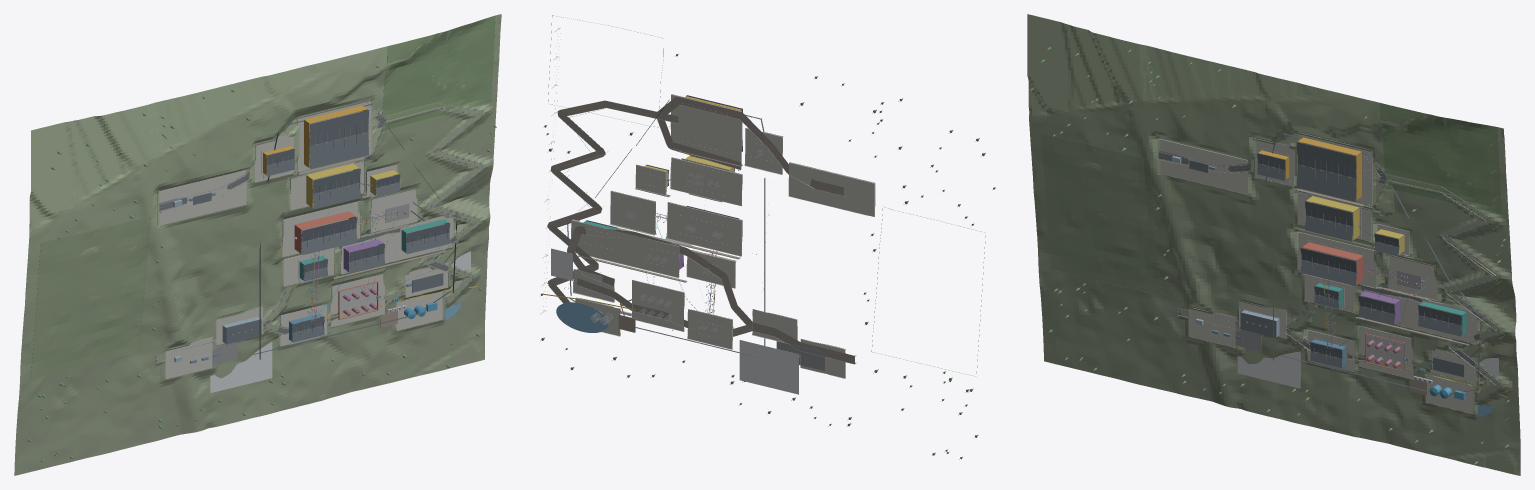
Rendered from 20_Модель_A1_RevP2_ExteriorQA.glb.
3 renders of one model, left to right at view 1: azimuth 30°, elevation 25°; view 2: azimuth 150°, elevation 25°; view 3: azimuth 330°, elevation 25°, orthographic. The views are drawn at different scales.
Parts seen in each view (by area): view 1: finished_design_surface, EXT_RESERVE_WEST_SURFACE, EXT_RESERVE_EAST_SURFACE, BLD_02_ROOF, pad_R1, clean_snow, BLD_05_ROOF, BLD_03_ROOF, pad_A2, pad_P2, pad_U4, pad_U1 (+21 smaller); view 2: EXT_D3_SUBBASE, pad_C2, pad_R3, pad_P1, pad_R1, clean_snow, pad_M1, EXT_D2_SUBBASE, pad_U1, EXT_D5_SUBBASE, pad_P2, pad_U3 (+14 smaller); view 3: finished_design_surface, EXT_RESERVE_WEST_SURFACE, EXT_RESERVE_EAST_SURFACE, BLD_02_ROOF, pad_R1, clean_snow, BLD_05_ROOF, BLD_03_ROOF, pad_A2, pad_P2, pad_U4, pad_C2 (+21 smaller).
Part boxes in pixels (x1=…): finished_design_surface: x1=14, y1=14, x2=501, y2=475; EXT_RESERVE_WEST_SURFACE: x1=31, y1=217, x2=150, y2=378; EXT_RESERVE_EAST_SURFACE: x1=382, y1=16, x2=495, y2=131; BLD_02_ROOF: x1=309, y1=110, x2=369, y2=169; pad_R1: x1=159, y1=170, x2=246, y2=224; clean_snow: x1=210, y1=341, x2=272, y2=392; BLD_05_ROOF: x1=301, y1=217, x2=357, y2=255; BLD_03_ROOF: x1=312, y1=169, x2=360, y2=208; pad_A2: x1=165, y1=338, x2=212, y2=378; pad_P2: x1=370, y1=189, x2=417, y2=232; pad_U4: x1=396, y1=292, x2=442, y2=330; pad_U1: x1=330, y1=274, x2=384, y2=326; EXT_D3_SUBBASE: x1=547, y1=100, x2=678, y2=303; pad_C2: x1=571, y1=220, x2=678, y2=277; pad_R3: x1=671, y1=94, x2=741, y2=162; pad_P1: x1=667, y1=202, x2=741, y2=255; pad_R1: x1=789, y1=163, x2=874, y2=216; clean_snow: x1=739, y1=340, x2=798, y2=394; pad_M1: x1=671, y1=157, x2=741, y2=205; EXT_D2_SUBBASE: x1=657, y1=96, x2=815, y2=188; pad_U1: x1=632, y1=280, x2=683, y2=331; EXT_D5_SUBBASE: x1=567, y1=226, x2=753, y2=325; pad_P2: x1=610, y1=191, x2=655, y2=234; pad_U3: x1=688, y1=309, x2=732, y2=349; finished_design_surface: x1=1027, y1=14, x2=1520, y2=475; EXT_RESERVE_WEST_SURFACE: x1=1041, y1=133, x2=1160, y2=295; EXT_RESERVE_EAST_SURFACE: x1=1380, y1=103, x2=1501, y2=213; BLD_02_ROOF: x1=1296, y1=142, x2=1356, y2=201; pad_R1: x1=1160, y1=139, x2=1247, y2=194; clean_snow: x1=1237, y1=351, x2=1300, y2=388; BLD_05_ROOF: x1=1300, y1=248, x2=1356, y2=286; BLD_03_ROOF: x1=1305, y1=201, x2=1353, y2=241; pad_A2: x1=1188, y1=308, x2=1235, y2=347; pad_P2: x1=1389, y1=256, x2=1435, y2=299; pad_U4: x1=1425, y1=374, x2=1472, y2=413; pad_C2: x1=1396, y1=297, x2=1477, y2=344.
Bounding box in the file's own units: 608 × 440 × 66.45.
